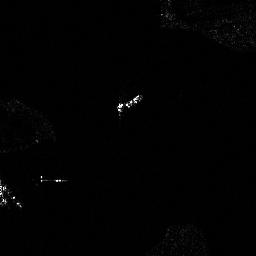ship: (117, 95, 141, 111)
